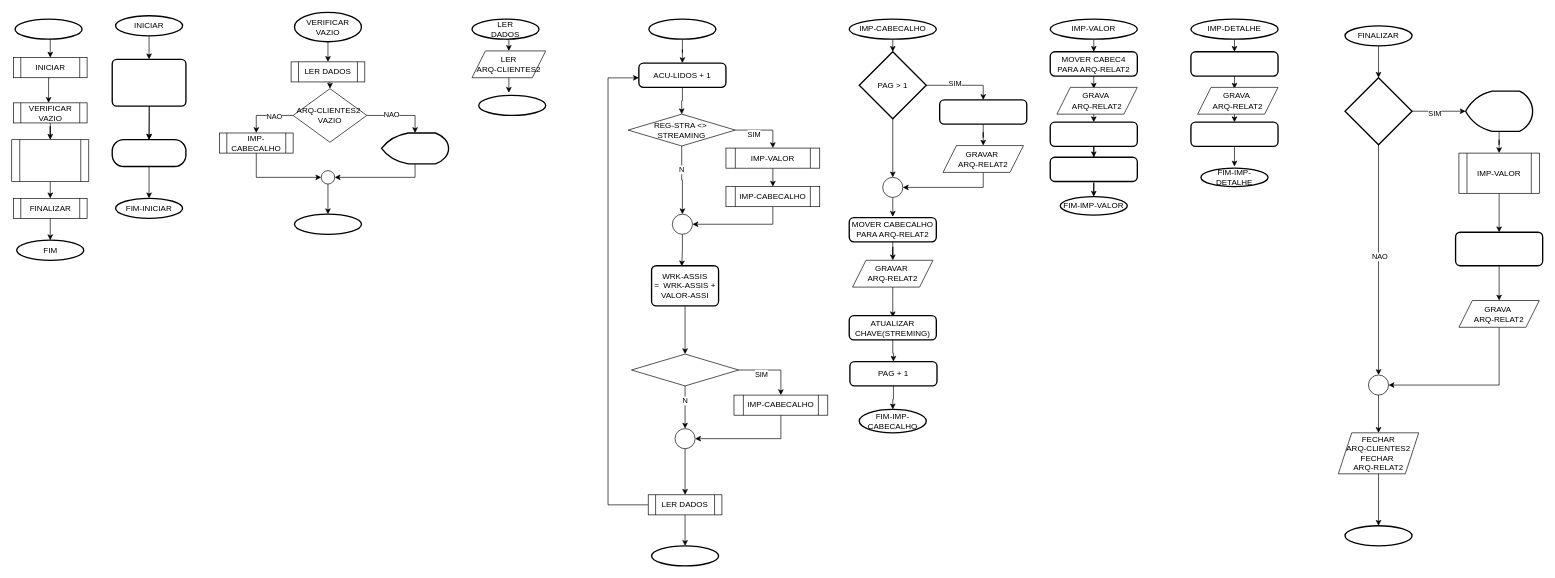
This 1555x578 diagram has some shape labels left out. Here are the shapes that lost their labels. From the top down, the centre of each, then its label:
the point at 48,29: INICIO
the point at 682,29: PROCESSAR
the point at 148,82: ABRIR AR-CLIENTES2 ABRIR ARQ-RELAT2
the point at 1234,63: MOVER DETALHE PARA ARQ-RELAT2
the point at 512,105: FIM-LER-DADOS
the point at 983,111: MOVER CABEC3 PARA ARQ-RELAT2
the point at 1378,111: ACU-LIDOS > 0
the point at 1499,111: TOTAL LIDOS
the point at 148,153: QT-LINHAS = 0 PAG = 1 ACU-LIDOS = 0
the point at 415,148: ARQUIVO CLIENTES2 VAZIO
the point at 1093,134: MOVER 0 PARA WRK-ASSIS
the point at 1234,134: QT-LINHAS + 1
the point at 50,160: PROCESSAR até EOF de ARQCLIENTES2
the point at 1093,169: QT-LINHAS = 0
the point at 327,224: FIM-VERIFICAR-VAZIO
the point at 1499,248: MOVER TOTAL-RELATORIO PARA ARQ-RELAT2
the point at 685,369: QT-LINHAS = 13
the point at 685,555: FIM-PROCESSAR
the point at 1378,535: FIM-FINALIZAR
